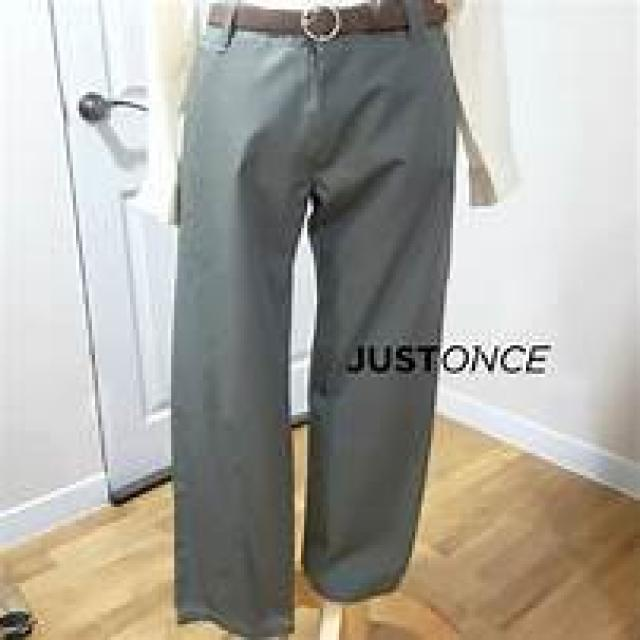long-pants: (172, 0, 459, 640)
